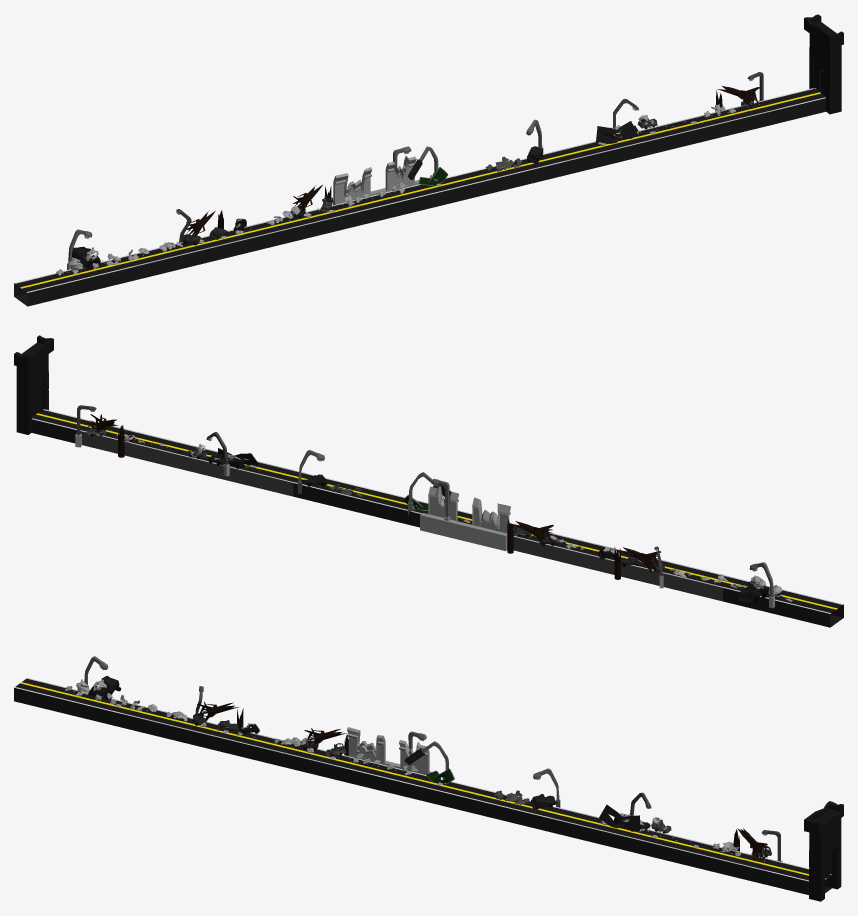
Rendered from road@close.FBX.
3 views of the same model, one above another, from view 1: azimuth 30°, elevation 25°; view 2: azimuth 150°, elevation 25°; view 3: azimuth 330°, elevation 25° (orthographic).
Visible parts, largest first — view 1: Box002; view 2: Box002; view 3: Box002.
Boxes of the visible parts, x1,y1,x2,y2 form: Box002: [14, 14, 843, 306]; Box002: [14, 335, 843, 627]; Box002: [14, 656, 843, 901].
Size of the model in its own units: 1166 by 110 by 78.26.
